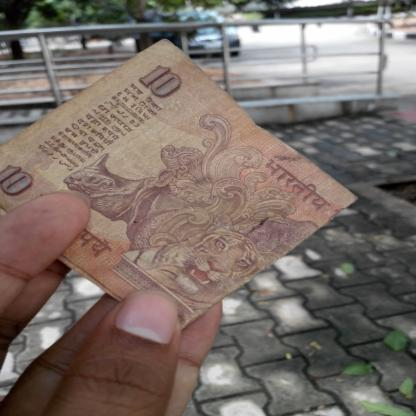Old10Back: (0, 37, 359, 332)
